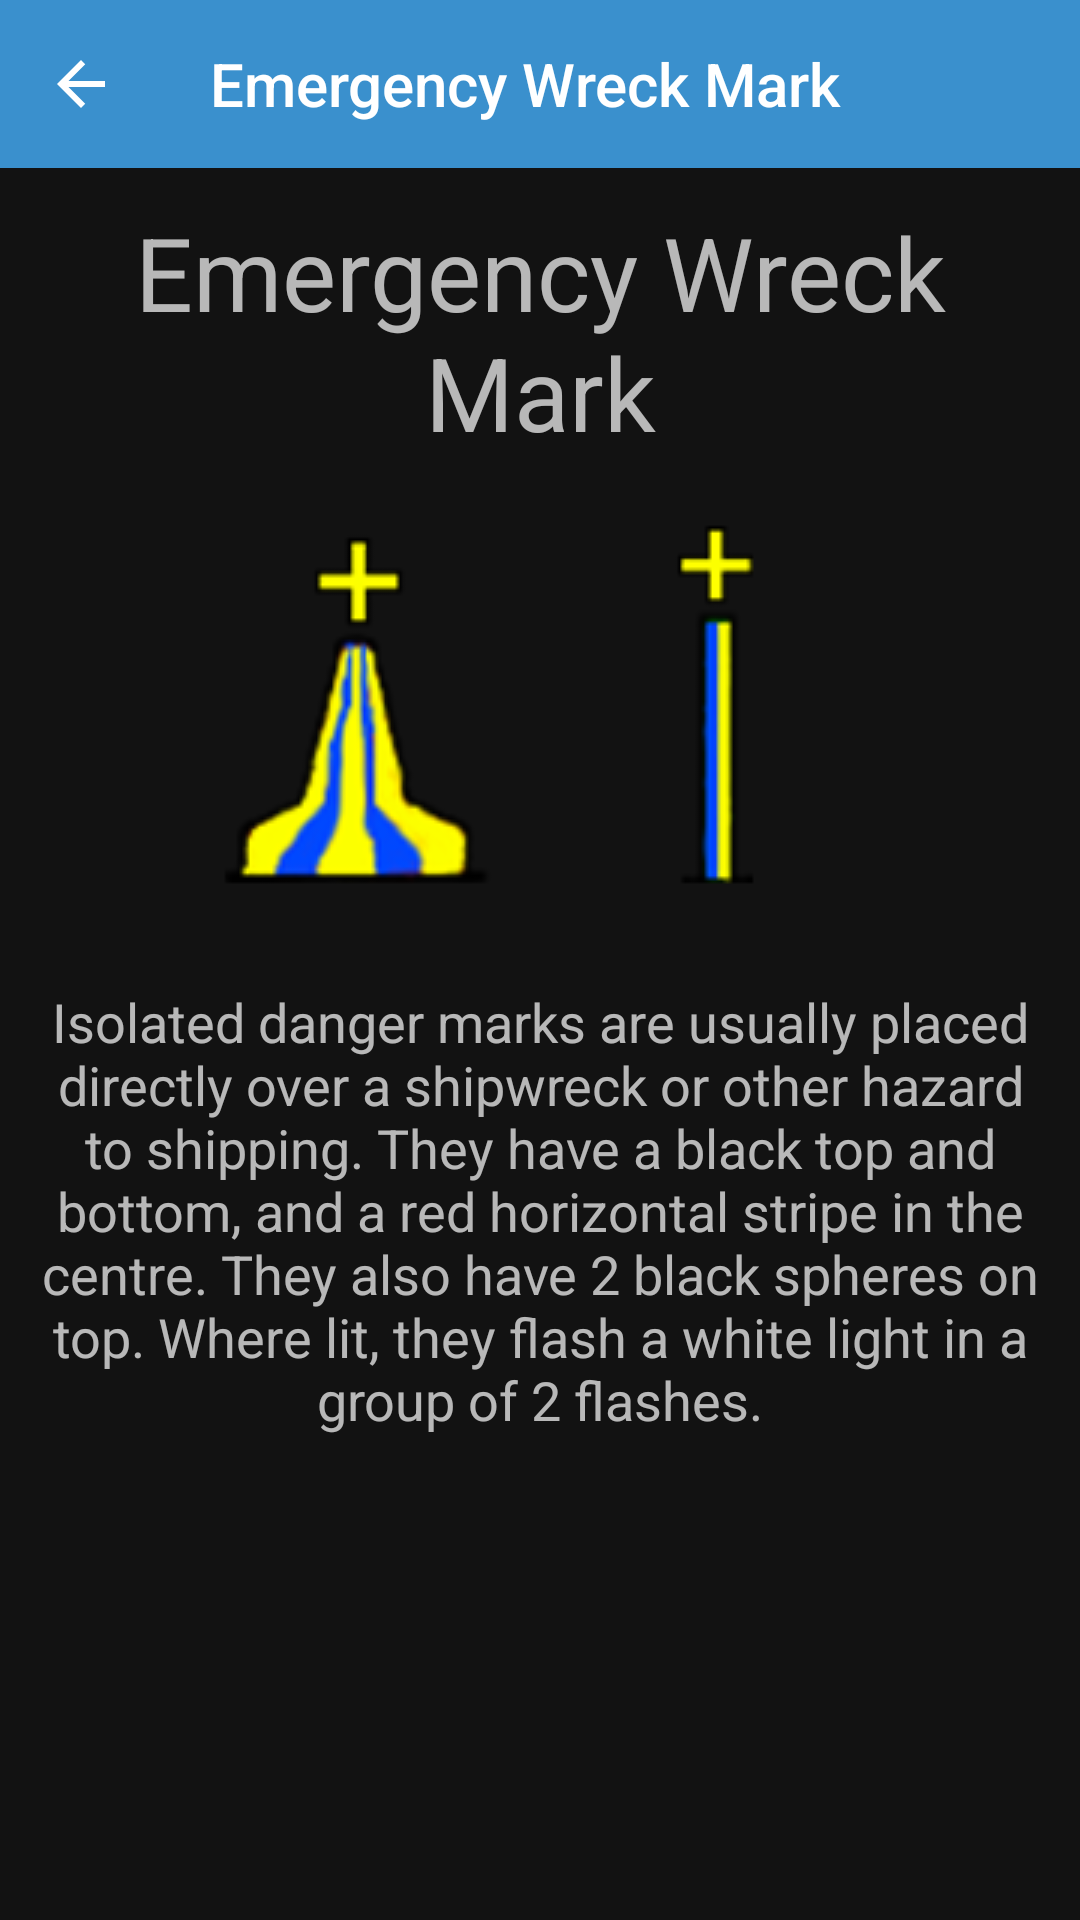

Screen size 1080 x 1920. Icon name, then its center in pixels as (x,y):
arrow back: (81,84)
